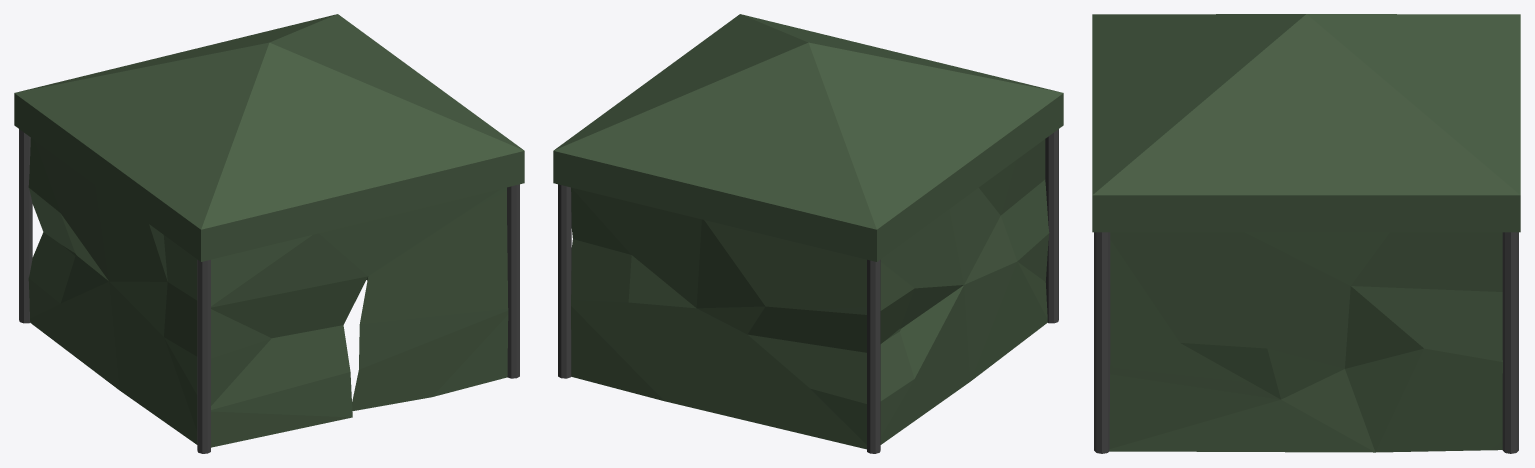
Rendered from militaryTent1_small.fbx.
3 renders of one model, left to right at view 1: azimuth 30°, elevation 25°; view 2: azimuth 150°, elevation 25°; view 3: azimuth 270°, elevation 25°, orthographic. The views are drawn at different scales.
Visible parts, largest first — view 1: Cube; view 2: Cube; view 3: Cube.
Part boxes in pixels (box(x1,y1,x2,y2)): Cube: box(14, 14, 524, 453); Cube: box(553, 14, 1063, 453); Cube: box(1092, 14, 1520, 453).
Bounding box in the file's own units: 524 × 473 × 524.
